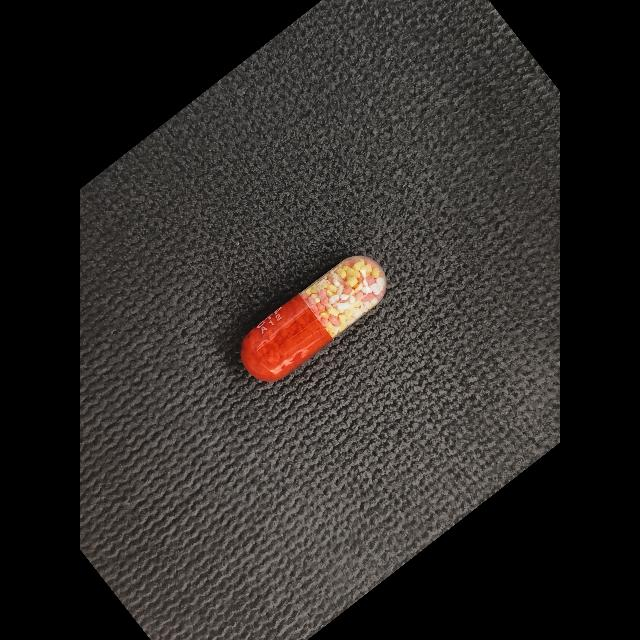Intact Capsule: (241, 255, 387, 381)
